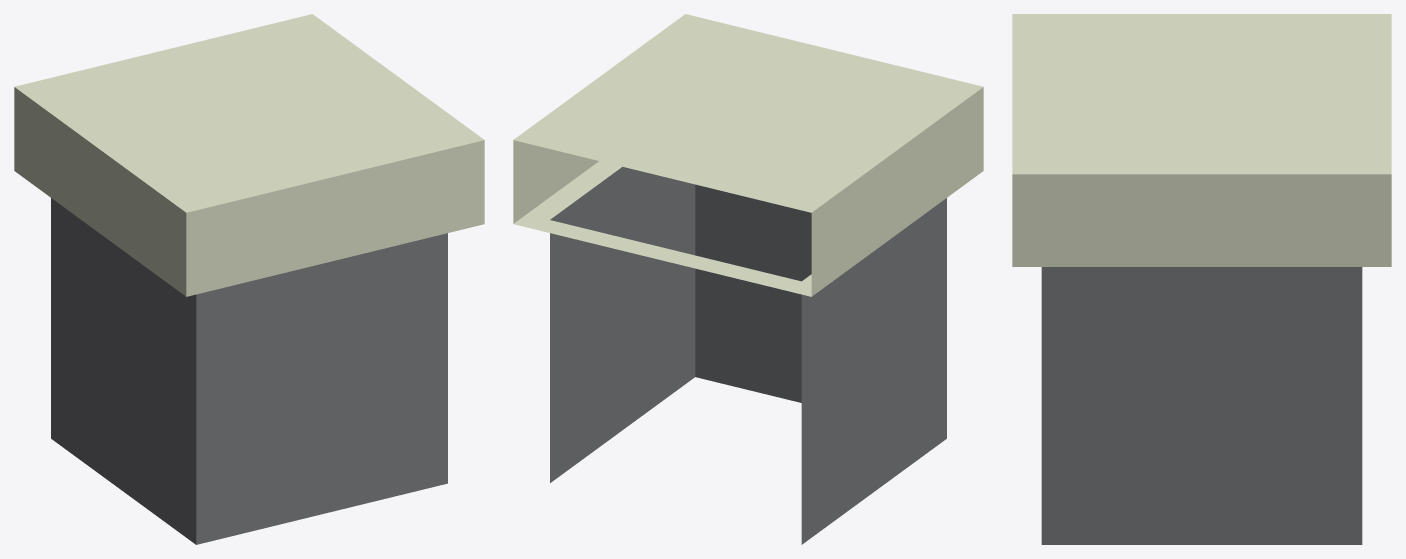
The model's file is platform.fbx.
3 renders of one model, left to right at view 1: azimuth 30°, elevation 25°; view 2: azimuth 150°, elevation 25°; view 3: azimuth 270°, elevation 25°, orthographic. The views are drawn at different scales.
Visible parts, largest first — view 1: Cube; view 2: Cube; view 3: Cube.
Part boxes in pixels (left/top/right/bottom): Cube: left=14, top=14, right=484, bottom=544; Cube: left=513, top=14, right=983, bottom=544; Cube: left=1012, top=14, right=1391, bottom=544.
Bounding box in the file's own units: 237 × 264 × 237.
